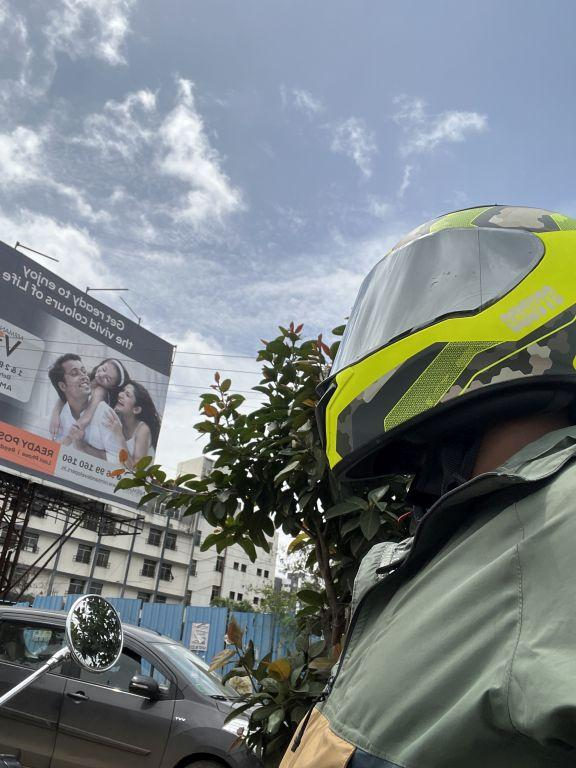helmet: (312, 189, 576, 489)
